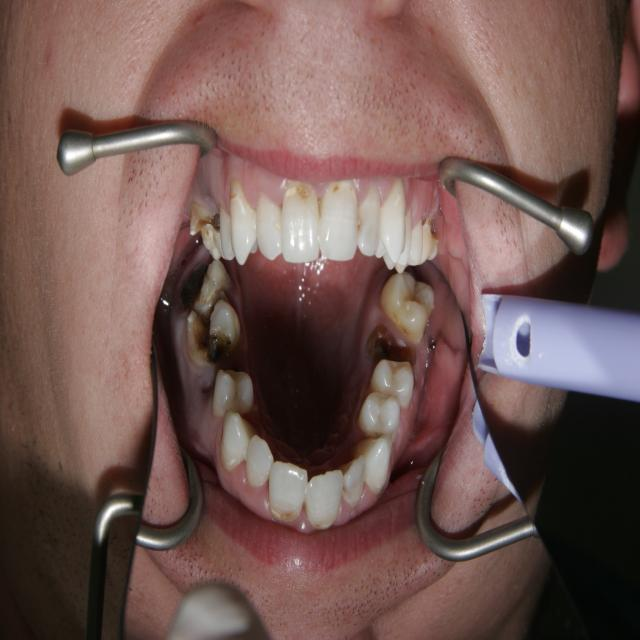tooth: (376, 267, 441, 345), (180, 293, 247, 367), (263, 447, 314, 534), (171, 251, 239, 316), (367, 350, 422, 417), (216, 399, 258, 481), (299, 463, 348, 532), (348, 426, 398, 493), (210, 362, 262, 422), (349, 388, 411, 436), (333, 444, 375, 514), (244, 429, 279, 501)
